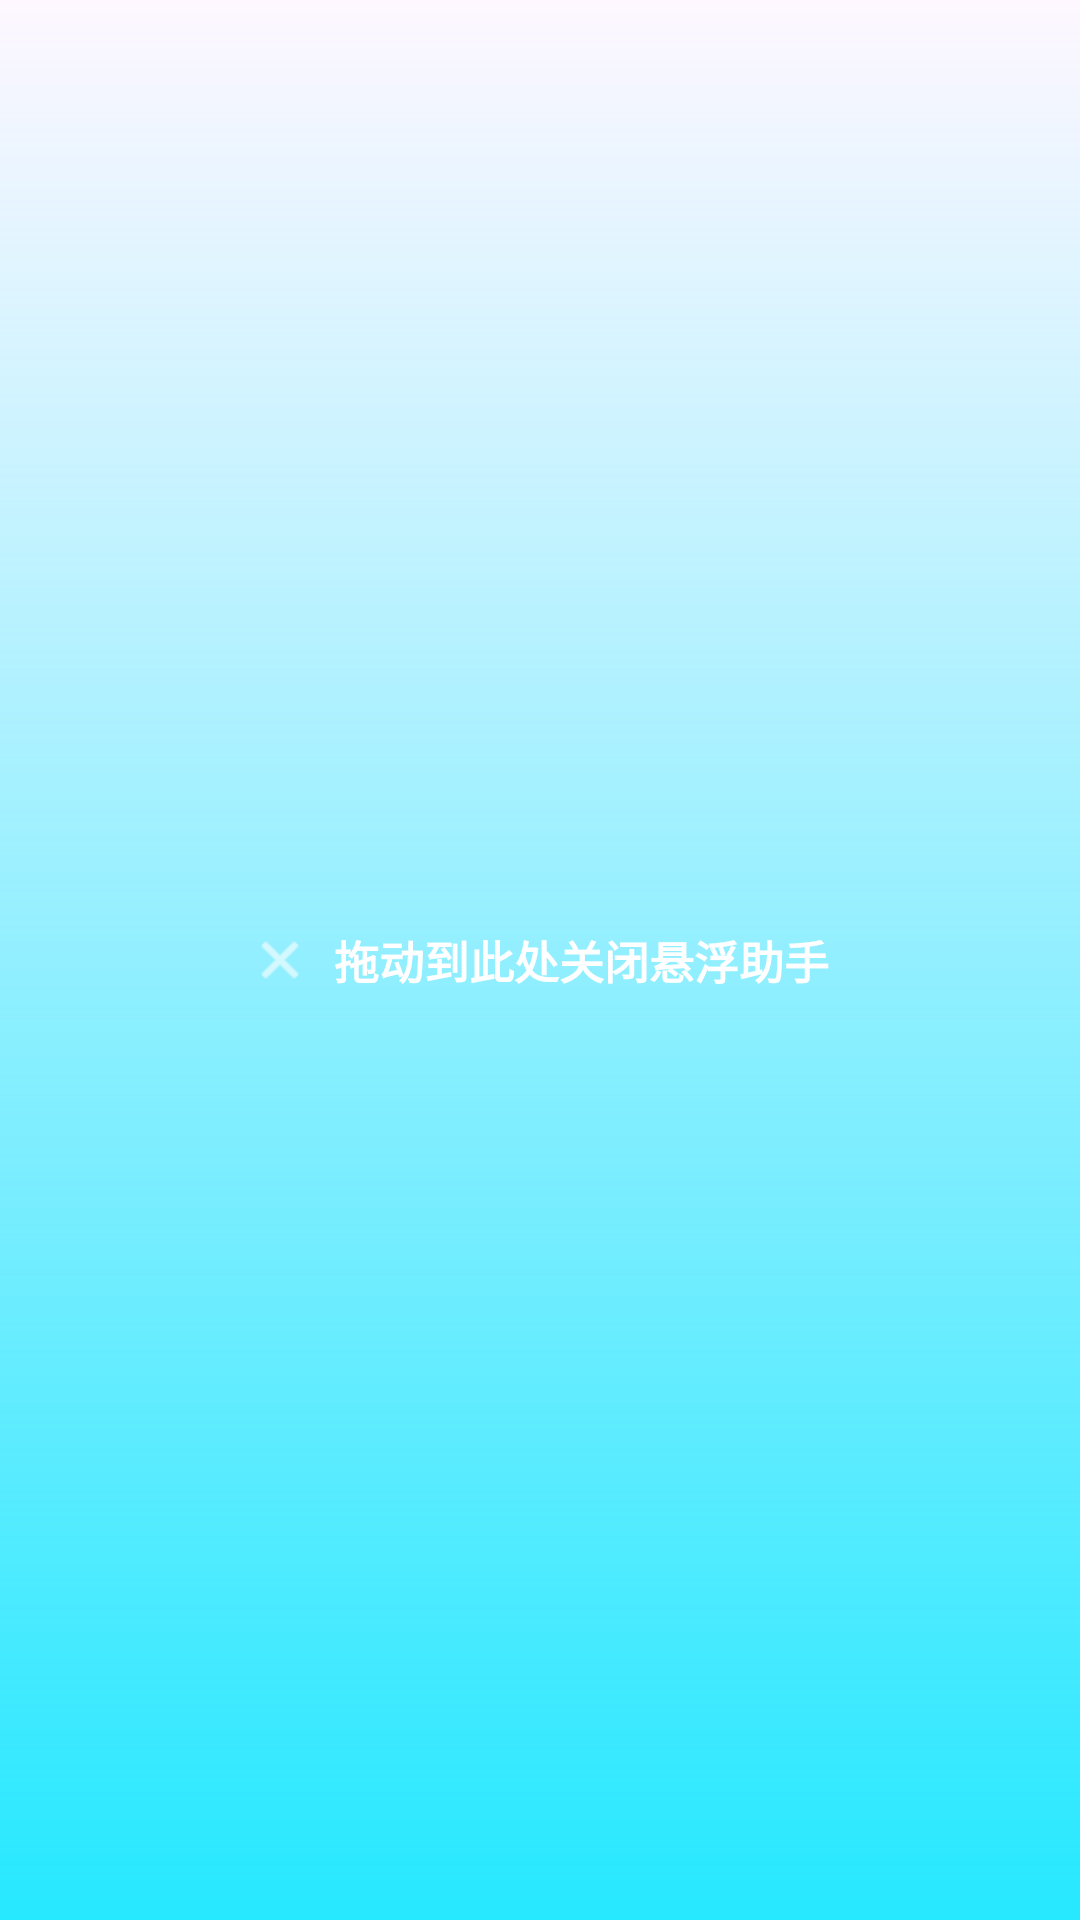

Screen size 1080 x 1920. Icon name, then its box in pixels as (x1, y1, x2, y2):
close clear cancel: (262, 942, 298, 978)
